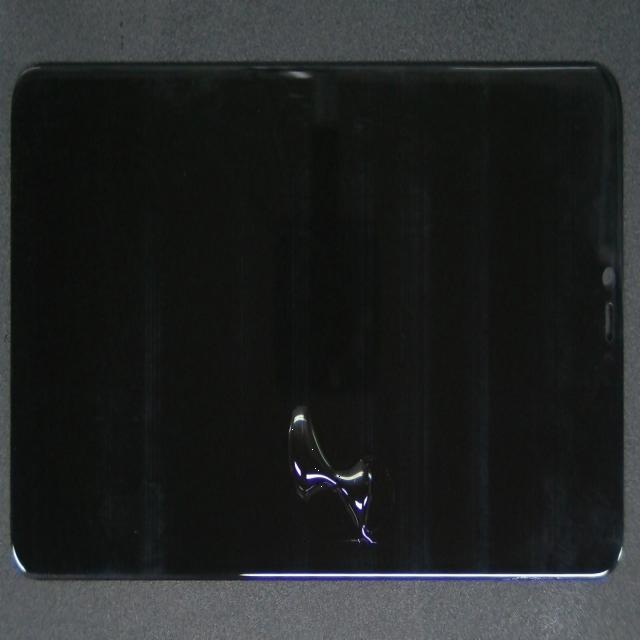oil: (208, 215, 548, 640)
